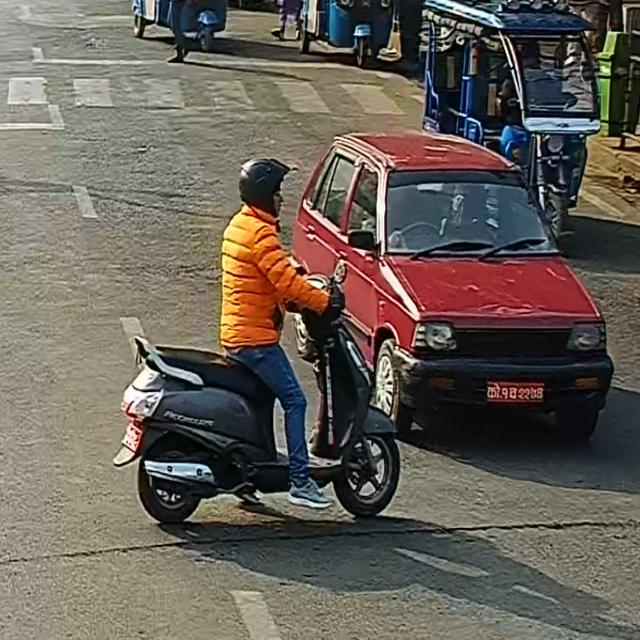license_plate: (452, 355, 608, 422)
